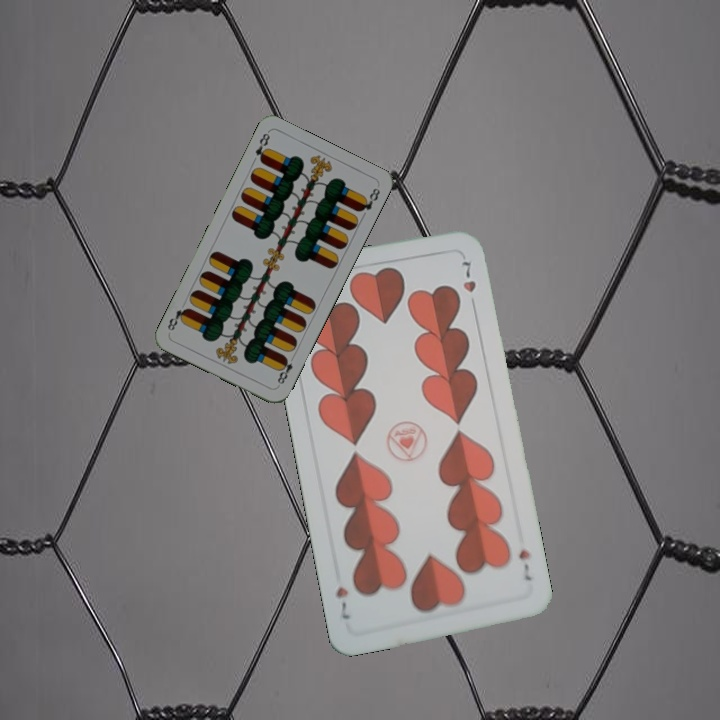E8: (273, 351, 297, 389), (251, 129, 273, 165)
H7: (514, 546, 534, 584)
